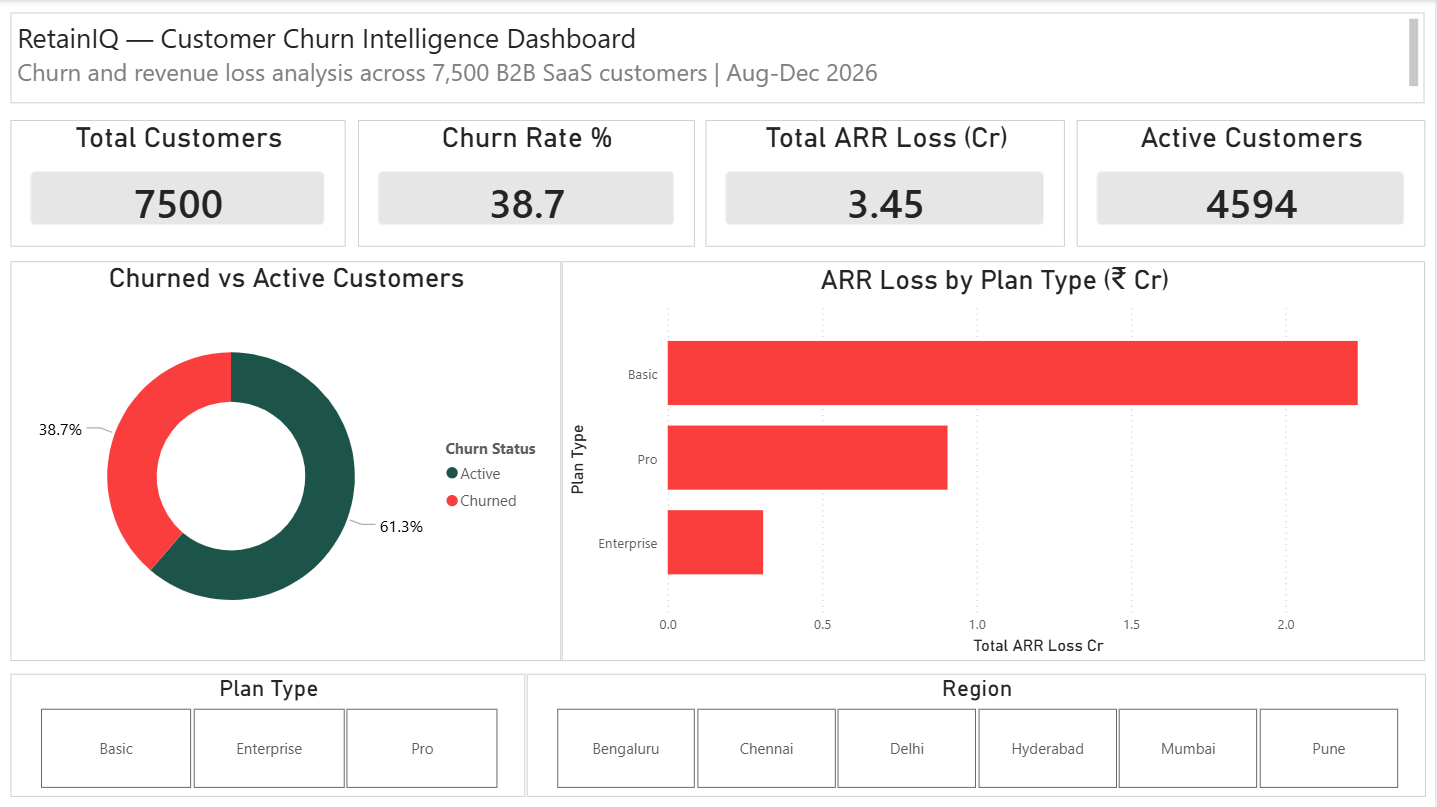

The dashboard page shown, as its layout file describes it:
{"tool":"powerbi","page":{"name":"Executive overview ","canvas":[1280,720],"ordinal":0},"visuals":[{"type":"cardVisual","title":"Total Customers","fields":{"Data":["customers.Total Customers"]},"box":[11.5,106.8,298.7,112.5],"z":0},{"type":"cardVisual","title":"Active Customers","fields":{"Data":["customers.Active Customers"]},"box":[960.9,106.8,310.2,112.5],"z":1000},{"type":"cardVisual","title":"Total ARR Loss (Cr)","fields":{"Data":["customers.Total ARR Loss Cr"]},"box":[630.5,106.8,320.3,112.5],"z":2000},{"type":"cardVisual","title":"Churn Rate %","fields":{"Data":["customers.%Churn Rate"]},"box":[320.3,106.8,300.1,112.5],"z":3000},{"type":"donutChart","title":"Churned vs Active Customers","fields":{"Y":["customers.Total Customers"],"Category":["customers.Churn Status"]},"box":[11.5,232.3,490.5,356.4],"z":4000},{"type":"clusteredBarChart","title":"ARR Loss by Plan Type (₹ Cr)","fields":{"Category":["customers.plan_type"],"Y":["customers.Total ARR Loss Cr"]},"box":[502.1,232.3,769,356.4],"z":5000},{"type":"slicer","title":"Plan Type","fields":{"Values":["customers.plan_type"]},"box":[11.5,600.2,458.8,109.6],"z":6000},{"type":"slicer","title":"Region","fields":{"Values":["customers.region"]},"box":[470.3,600.2,800.7,109.6],"z":7000},{"type":"textbox","box":[11.5,11.5,1259.5,80.8],"z":7001}]}

Visuals, with their boxes in screenshot pixels (x1, y1, x2, y2), scaled from the page's 1280x720 canvas onto the 1437x807 screenshot:
"Total Customers" cardVisual: {"left": 13, "top": 120, "right": 348, "bottom": 246}
"Active Customers" cardVisual: {"left": 1079, "top": 120, "right": 1427, "bottom": 246}
"Total ARR Loss (Cr)" cardVisual: {"left": 708, "top": 120, "right": 1067, "bottom": 246}
"Churn Rate %" cardVisual: {"left": 360, "top": 120, "right": 696, "bottom": 246}
"Churned vs Active Customers" donutChart: {"left": 13, "top": 260, "right": 564, "bottom": 660}
"ARR Loss by Plan Type (₹ Cr)" clusteredBarChart: {"left": 564, "top": 260, "right": 1427, "bottom": 660}
"Plan Type" slicer: {"left": 13, "top": 673, "right": 528, "bottom": 796}
"Region" slicer: {"left": 528, "top": 673, "right": 1427, "bottom": 796}
textbox: {"left": 13, "top": 13, "right": 1427, "bottom": 103}
